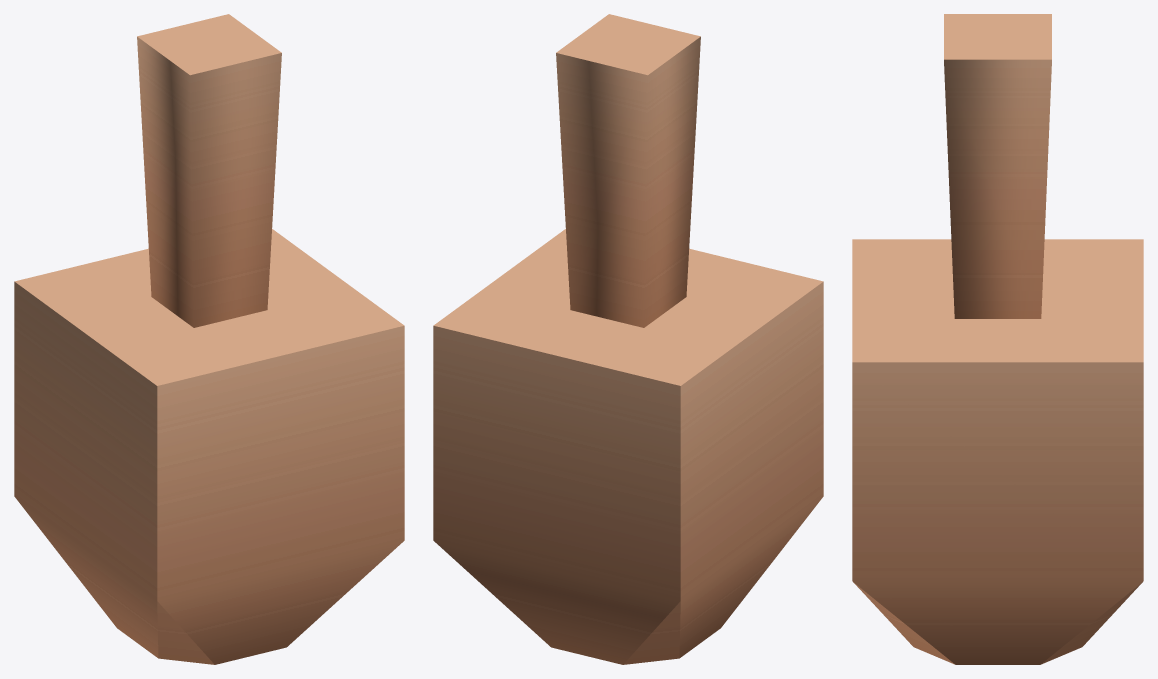
The model's file is hanukkah-dreidel.glb.
3 renders of one model, left to right at view 1: azimuth 30°, elevation 25°; view 2: azimuth 150°, elevation 25°; view 3: azimuth 270°, elevation 25°, orthographic.
Parts seen in each view (by area): view 1: hanukkah-dreidel; view 2: hanukkah-dreidel; view 3: hanukkah-dreidel.
Boxes of the visible parts, left/top/right/bottom form: hanukkah-dreidel: left=14, top=14, right=404, bottom=664; hanukkah-dreidel: left=433, top=14, right=823, bottom=664; hanukkah-dreidel: left=852, top=14, right=1143, bottom=664.
Size of the model in its own units: 0.1606 by 0.3604 by 0.1606.
Materials: 1 (1 with a texture image).
